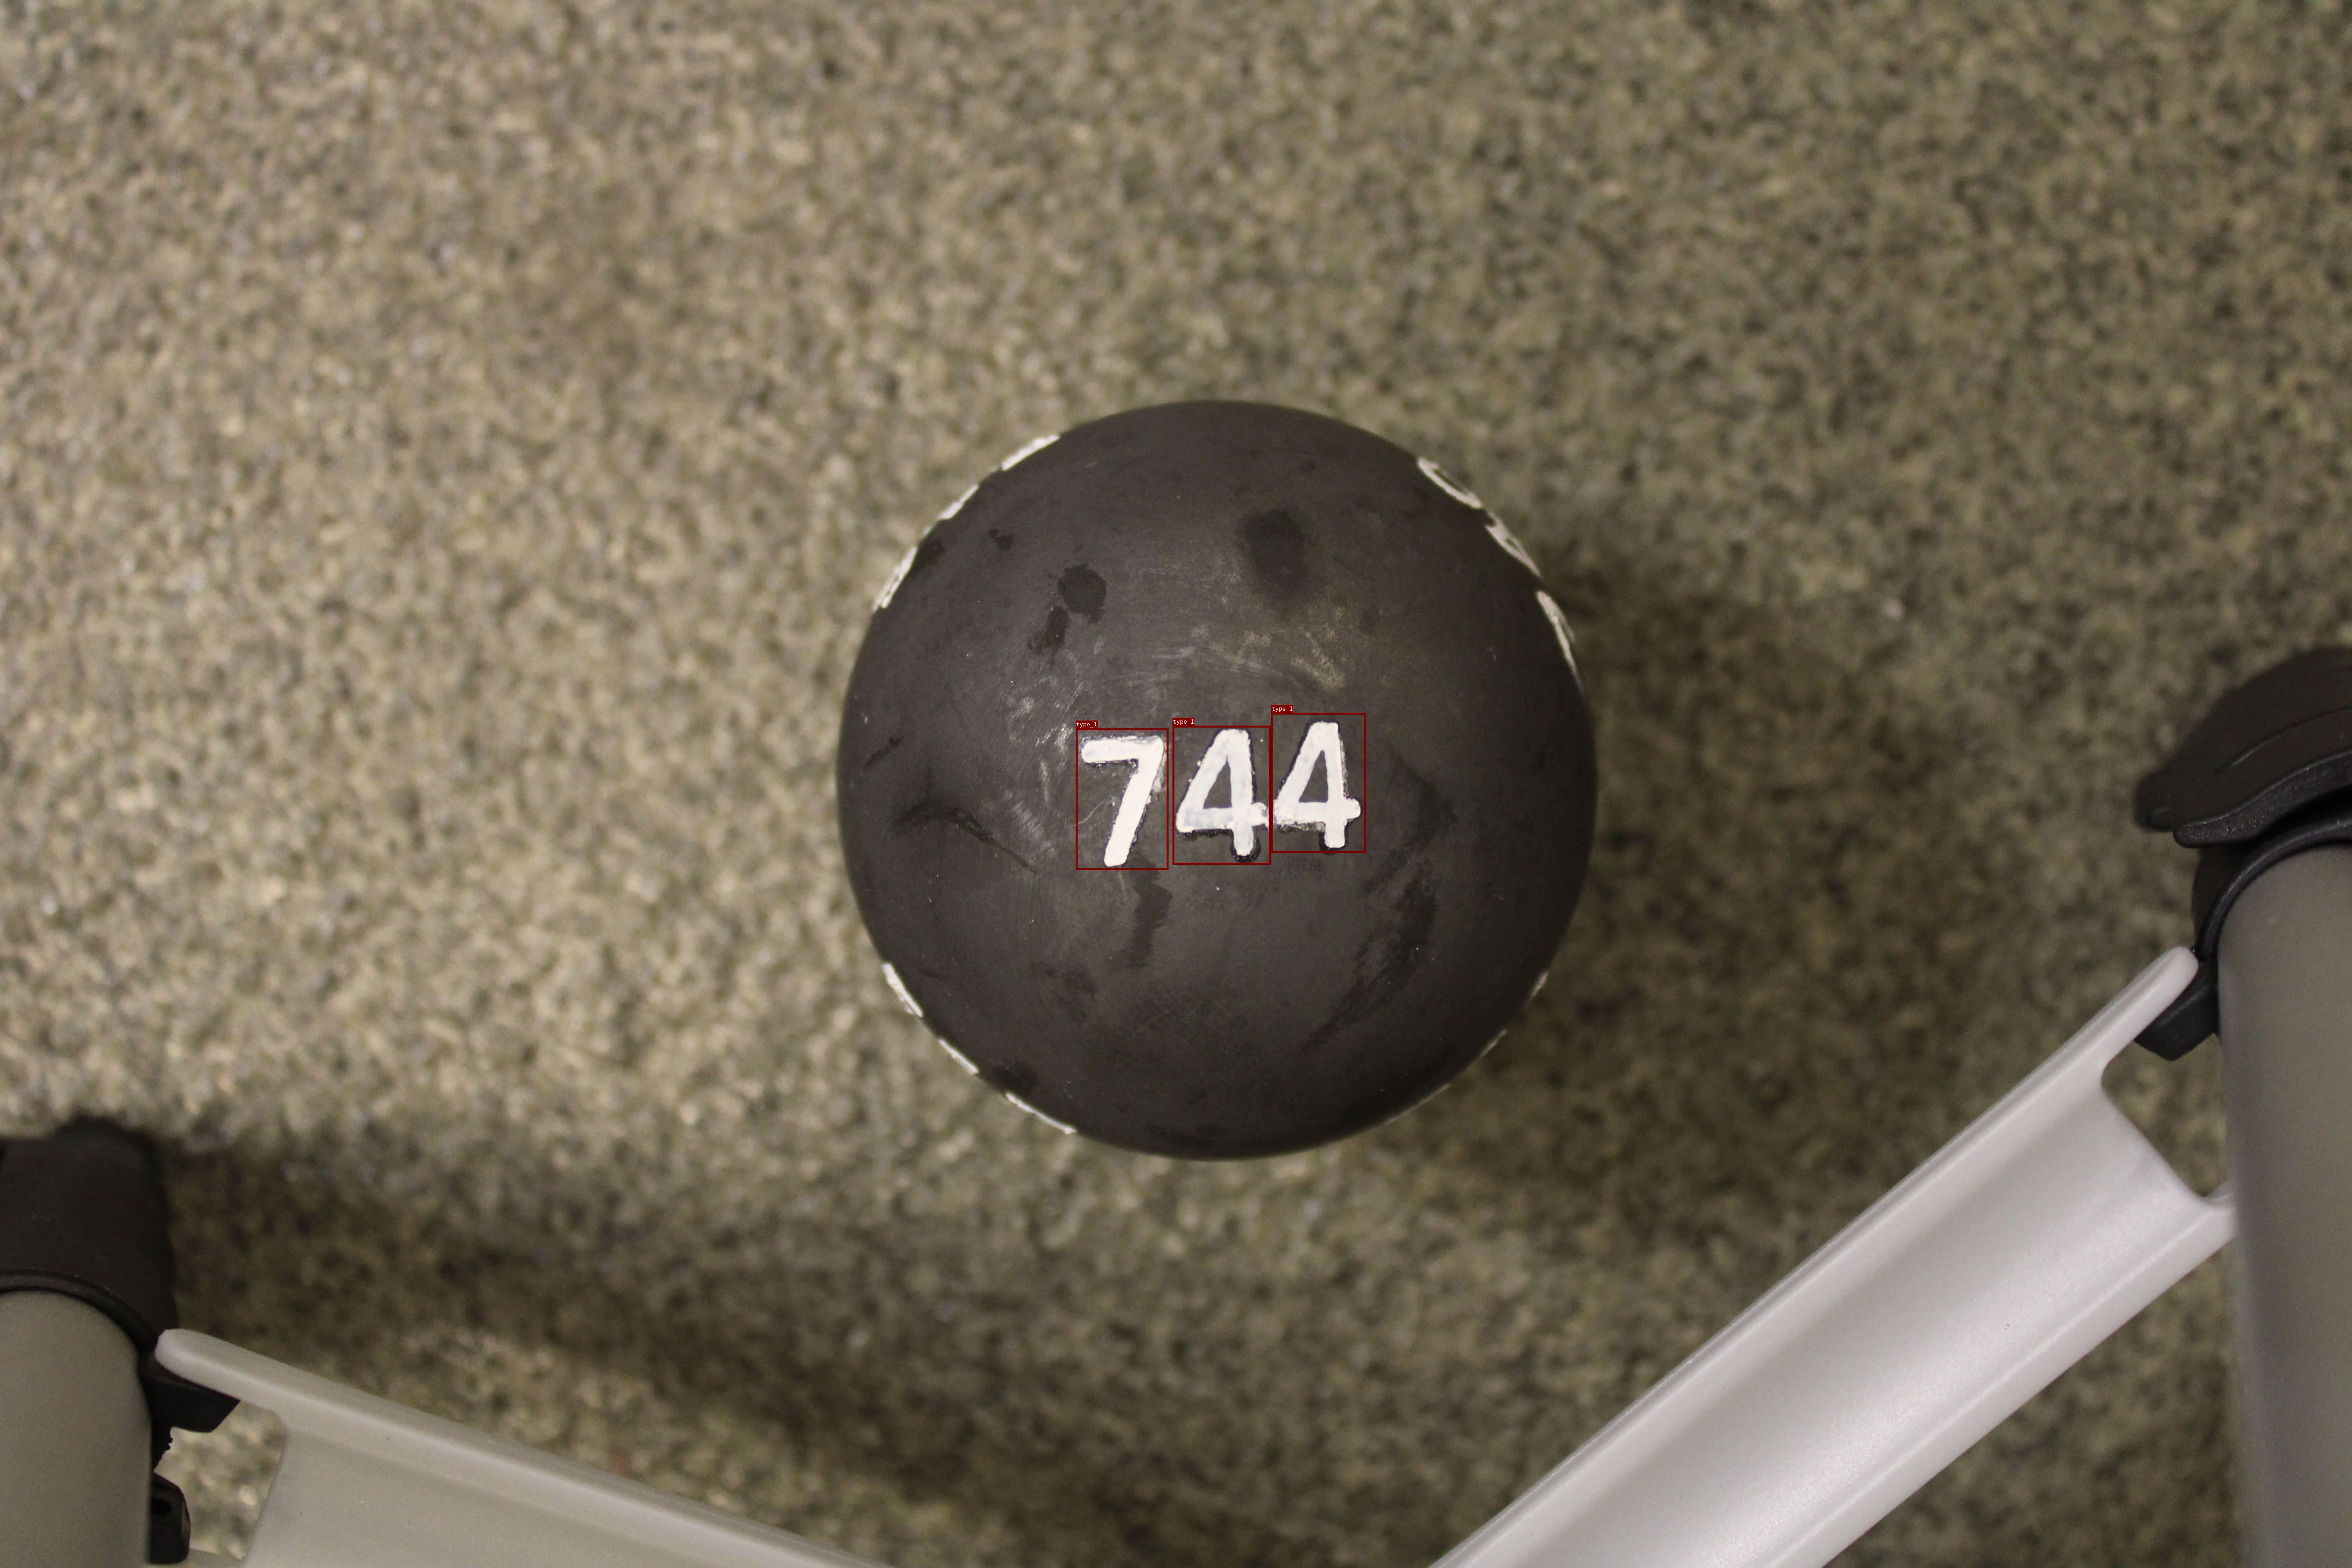type_1: (1172, 726, 1270, 865), (1270, 712, 1365, 852), (1076, 728, 1169, 870)
